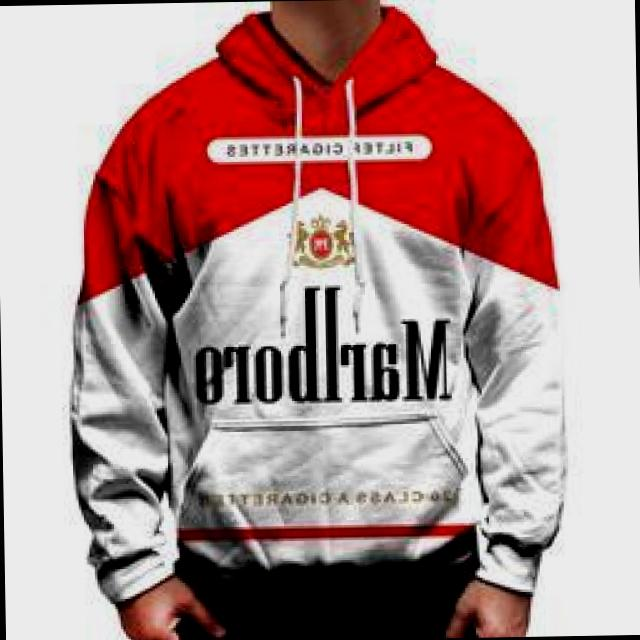sweater: (60, 4, 570, 610)
